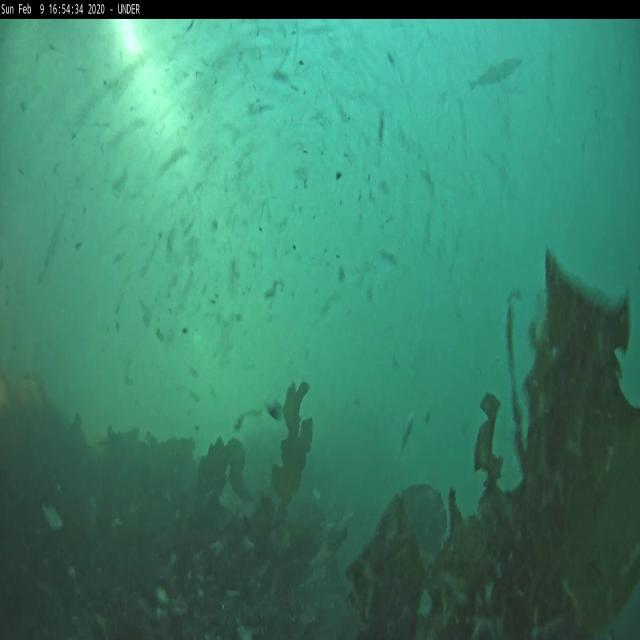fish: (471, 58, 524, 90)
